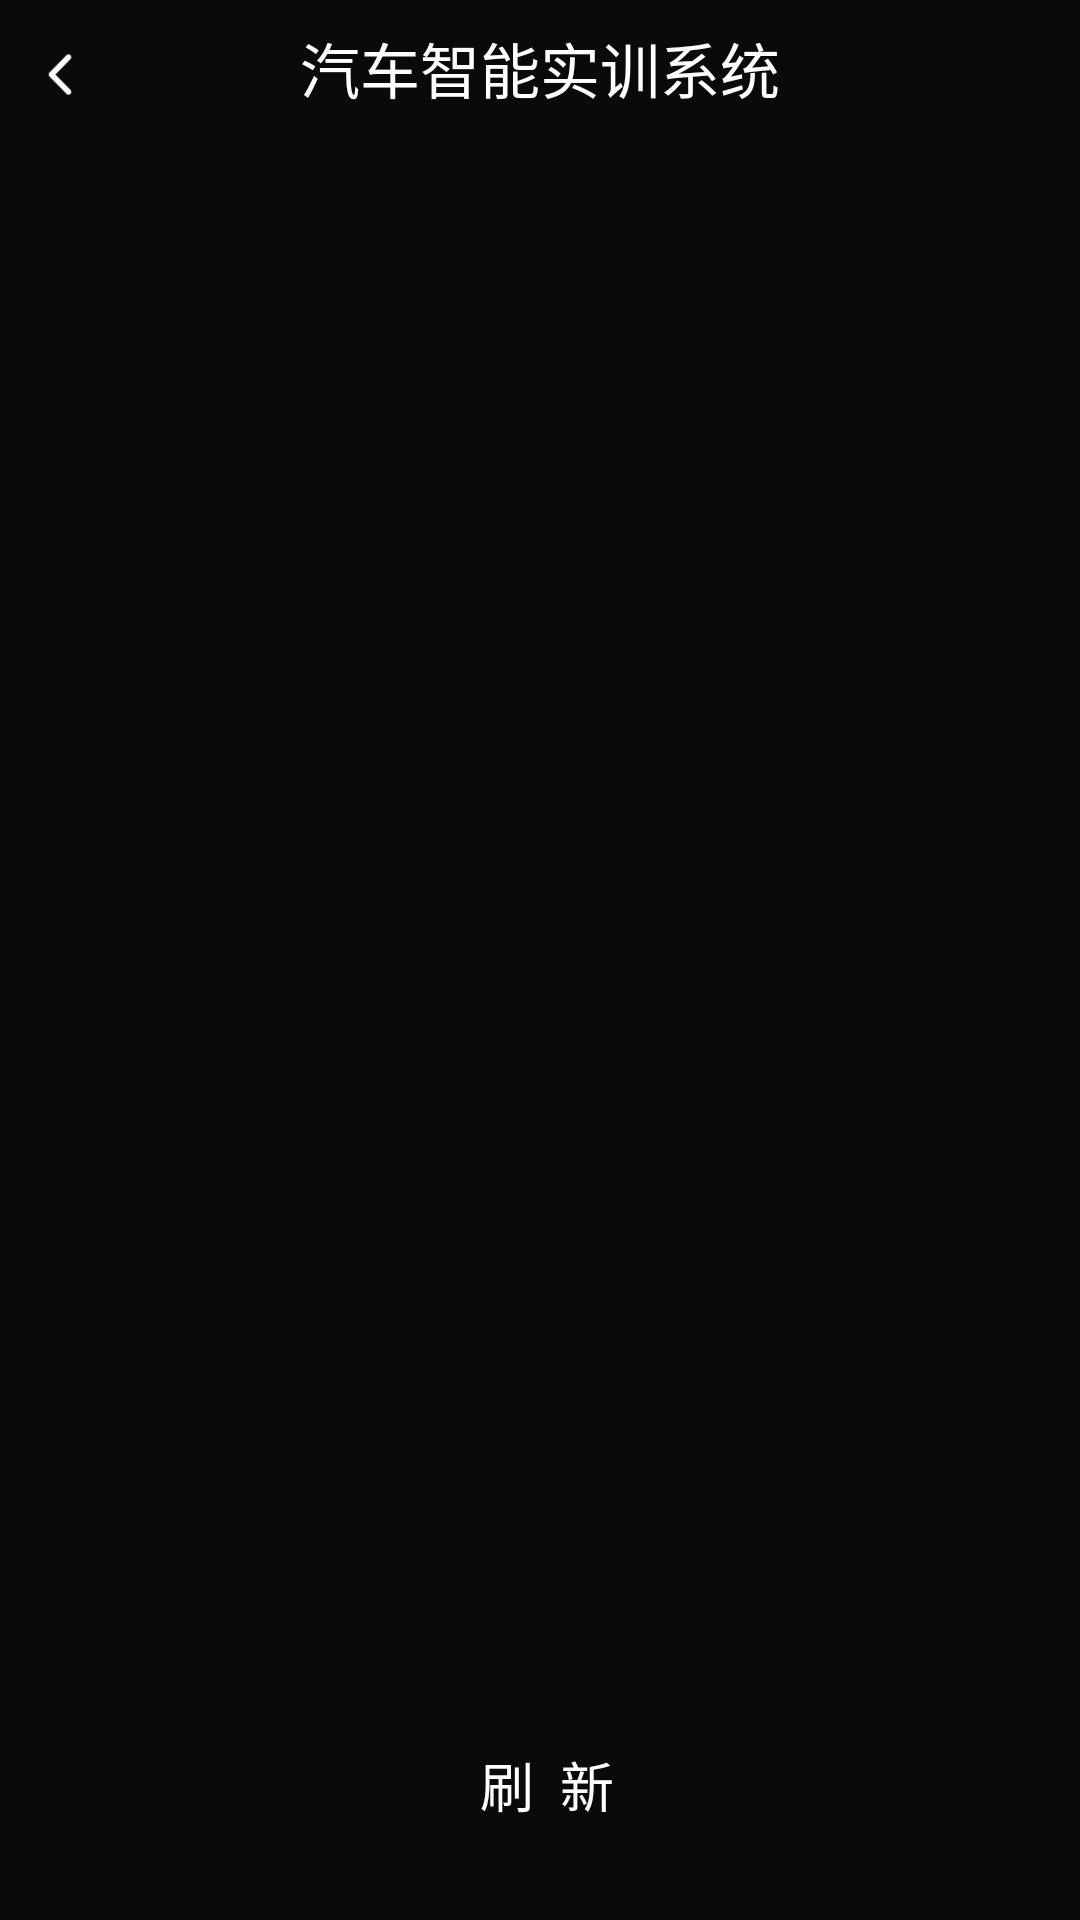

Point at icon controls on the screen. Image size 1080×1920, points as point (x, y).
back: point (60, 74)
